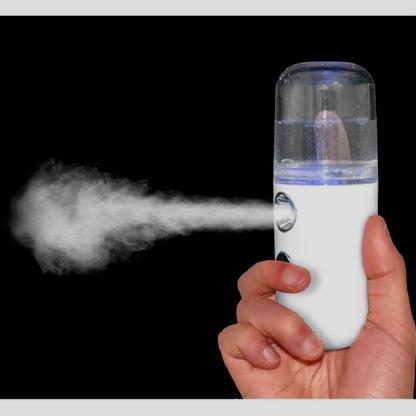smoke: (12, 158, 270, 281)
